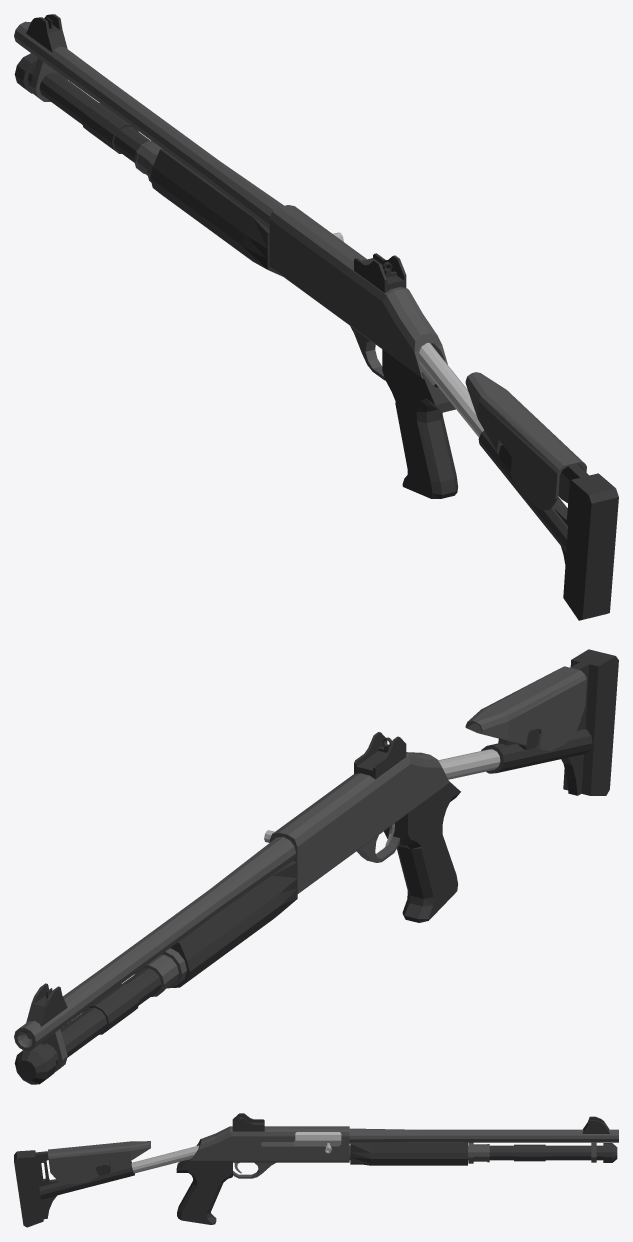
3 renders of one model, top to bottom at view 1: azimuth 30°, elevation 25°; view 2: azimuth 150°, elevation 25°; view 3: azimuth 270°, elevation 25°, orthographic. The views are drawn at different scales.
Parts seen in each view (by area): view 1: SG_M4, SG_M4_Pump; view 2: SG_M4, SG_M4_Pump; view 3: SG_M4, SG_M4_Pump.
Boxes of the visible parts, x1,y1,x2,y2 form: SG_M4: [14, 14, 618, 620]; SG_M4_Pump: [150, 149, 343, 276]; SG_M4: [14, 649, 618, 1084]; SG_M4_Pump: [170, 830, 297, 987]; SG_M4: [14, 1113, 618, 1227]; SG_M4_Pump: [294, 1132, 467, 1165].
Bounding box in the file's own units: 0.0562 × 0.1969 × 1.
1 material, 1 textured.
